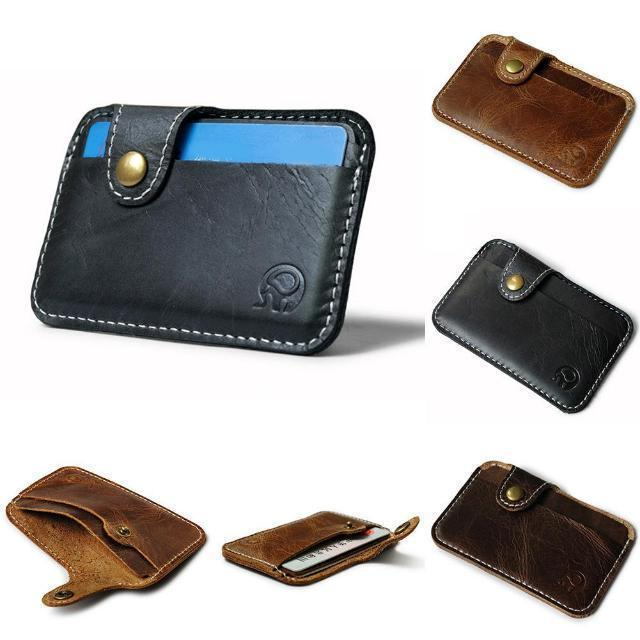wallet: (26, 101, 378, 356), (434, 236, 634, 412), (432, 456, 636, 616), (432, 29, 634, 190), (3, 466, 206, 608), (223, 508, 422, 588)
